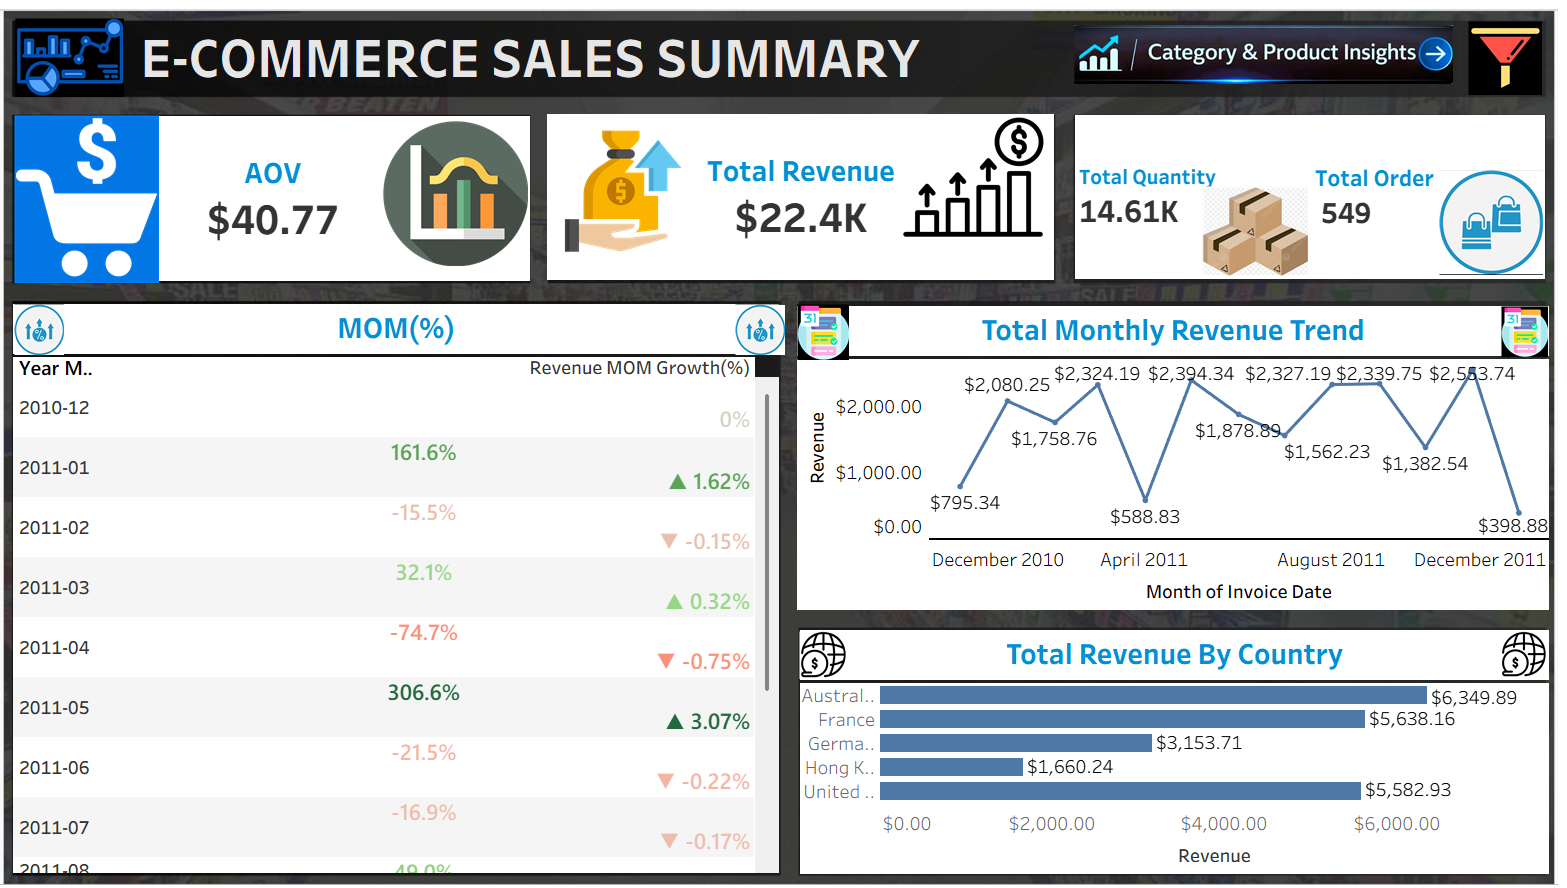

The dashboard page shown, as its layout file describes it:
{"tool":"tableau","page":{"name":"Executive Sale Performance Overview","canvas":[1600,900],"ordinal":1},"visuals":[{"type":"image","param":"Image/Screenshot 2026-02-24 094520.png","box":[8,8,1584,884]},{"type":"dashboard-object","box":[1088,11,379,94]},{"type":"text","box":[27,20,1210,78]},{"type":"image","param":"Image/WhatsApp Image 2026-02-27 at 5.27.12 PM.jpeg","box":[29,21,133,79]},{"type":"filter","title":"TMRT","param":"[federated.0kl09rs0qpjj0d17roevx0ib7bio].[none:year_month:nk]","box":[1398,21,165,70]},{"type":"dashboard-object","box":[1478,24,83,74]},{"type":"filter","title":"TRC","param":"[federated.0kl09rs0qpjj0d17roevx0ib7bio].[none:country:nk]","box":[1398,91,165,70]},{"type":"worksheet","title":"TR","mark":"Automatic","box":[561,117,507,166]},{"type":"image","param":"Image/output-onlinepngtools.png","box":[28,118,145,195]},{"type":"image","param":"Image/WhatsApp Image 2026-02-27 at 6.20.38 PM.jpeg","box":[910,118,154,191]},{"type":"worksheet","title":"TQ","mark":"Automatic","box":[1089,118,236,164]},{"type":"worksheet","title":"TO","mark":"Automatic","box":[1325,118,234,164]},{"type":"worksheet","title":"AOV","mark":"Automatic","box":[29,119,515,165]},{"type":"image","param":"Image/5259782.png","box":[397,124,145,159]},{"type":"image","param":"Image/3097928.png","box":[560,124,149,165]},{"type":"filter","title":"AOV","param":"[federated.0kl09rs0qpjj0d17roevx0ib7bio].[none:major_category:nk]","box":[1398,161,165,76]},{"type":"image","param":"Image/p4.jpeg","box":[1453,173,104,109]},{"type":"image","param":"Image/p3.jpeg","box":[1216,189,109,90]},{"type":"filter","title":"AOV","param":"[federated.0kl09rs0qpjj0d17roevx0ib7bio].[none:minor_category:nk]","box":[1398,237,165,70]},{"type":"worksheet","title":"TMRT","mark":"Line","rows":["order_value"],"cols":["invoice_date"],"box":[807,305,760,312]},{"type":"worksheet","title":"MOM(%)","mark":"Automatic","rows":["year_month"],"box":[27,307,766,569]},{"type":"image","param":"Image/p7.jpeg","box":[28,307,72,51]},{"type":"image","param":"Image/p7 1.jpeg","box":[749,307,72,51]},{"type":"image","param":"Image/p10.jpeg","box":[811,307,104,56]},{"type":"image","param":"Image/p10.jpeg","box":[1515,309,55,51]},{"type":"worksheet","title":"TRC","mark":"Automatic","rows":["country"],"cols":["order_value"],"box":[814,633,749,244]},{"type":"image","param":"Image/p8.jpeg","box":[813,634,108,48]}]}

Visuals, with their boxes in screenshot pixels (x1, y1, x2, y2), scaled from the page's 1600x900 canvas onto the 1567x888 screenshot:
image: crop(8, 8, 1559, 880)
dashboard-object: crop(1066, 11, 1437, 104)
text: crop(26, 20, 1211, 97)
image: crop(28, 21, 159, 99)
"TMRT" filter: crop(1369, 21, 1531, 90)
dashboard-object: crop(1448, 24, 1529, 97)
"TRC" filter: crop(1369, 90, 1531, 159)
"TR" worksheet: crop(549, 115, 1046, 279)
image: crop(27, 116, 169, 309)
image: crop(891, 116, 1042, 305)
"TQ" worksheet: crop(1067, 116, 1298, 278)
"TO" worksheet: crop(1298, 116, 1527, 278)
"AOV" worksheet: crop(28, 117, 533, 280)
image: crop(389, 122, 531, 279)
image: crop(548, 122, 694, 285)
"AOV" filter: crop(1369, 159, 1531, 234)
image: crop(1423, 171, 1525, 278)
image: crop(1191, 186, 1298, 275)
"AOV" filter: crop(1369, 234, 1531, 303)
"TMRT" worksheet (Line marks): crop(790, 301, 1535, 609)
"MOM(%)" worksheet: crop(26, 303, 777, 864)
image: crop(27, 303, 98, 353)
image: crop(734, 303, 804, 353)
image: crop(794, 303, 896, 358)
image: crop(1484, 305, 1538, 355)
"TRC" worksheet: crop(797, 625, 1531, 865)
image: crop(796, 626, 902, 673)
